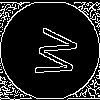W: (25, 25, 80, 80)
